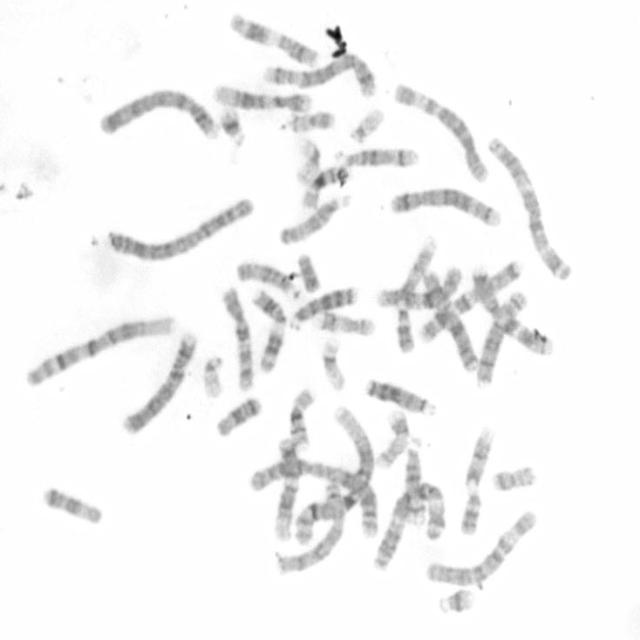A1: (290, 405, 378, 549), (19, 310, 177, 390)
A2: (245, 457, 381, 541), (103, 193, 255, 263)
A3: (484, 132, 574, 282), (371, 478, 448, 572)
B4: (119, 327, 200, 437), (96, 85, 220, 141)
B5: (386, 182, 503, 230), (259, 52, 378, 97)
C10: (371, 262, 465, 310), (218, 281, 256, 392)
C11: (225, 9, 322, 68), (250, 286, 288, 374)
C12: (208, 80, 313, 114), (268, 434, 301, 542)
C6: (391, 78, 491, 184), (421, 506, 540, 588)
C7: (416, 257, 526, 346), (468, 262, 554, 356)
C8: (272, 481, 350, 578), (473, 287, 529, 386)
C9: (391, 235, 442, 357), (457, 422, 496, 537)
D13: (286, 282, 358, 332), (361, 372, 436, 418)
D14: (336, 142, 420, 171), (401, 435, 426, 525)
D15: (276, 189, 352, 246), (232, 257, 302, 299)
E16: (298, 162, 350, 210), (285, 382, 317, 450)
E17: (374, 408, 412, 469), (316, 308, 376, 338)
E18: (39, 482, 104, 526), (212, 393, 262, 439)
F19: (316, 333, 349, 393), (291, 134, 323, 186)
F20: (489, 461, 538, 493), (284, 106, 336, 133)
G21: (432, 583, 477, 619), (216, 104, 248, 148)
G22: (346, 103, 386, 145), (199, 351, 226, 401)
X: (421, 268, 482, 374)
Y: (293, 249, 323, 295)
